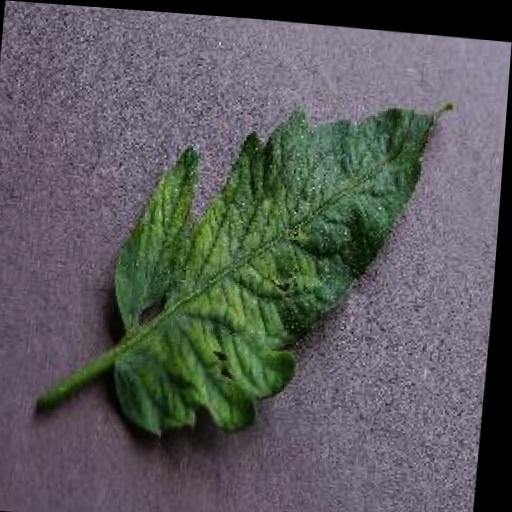Mosaic Virus: (103, 80, 437, 454)
